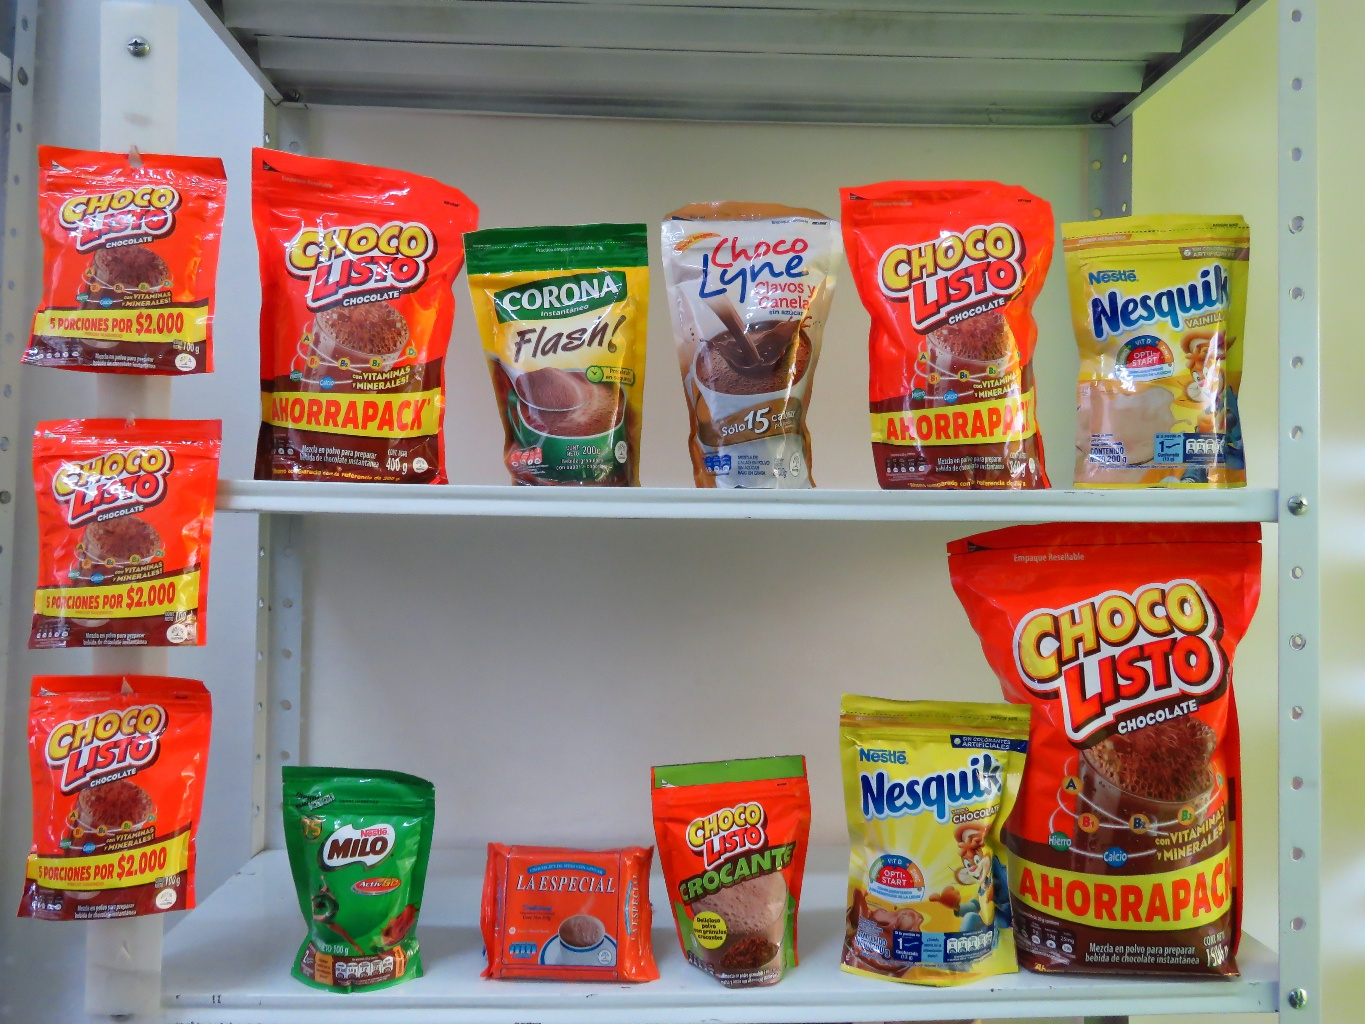COL0170102DYP10000: (646, 752, 830, 981)
COL0170103DYP1,500: (955, 520, 1271, 986)
COL0170103DYP10000: (2, 675, 225, 929)
COL0170103DYP36000: (845, 175, 1065, 496)
COL0170103DYP40000: (247, 143, 473, 481)
COL0170203DYP10000: (268, 755, 447, 989)
COL0170303DYP20000: (834, 684, 1029, 984)
COL0170306DYP20000: (1061, 198, 1253, 484)
